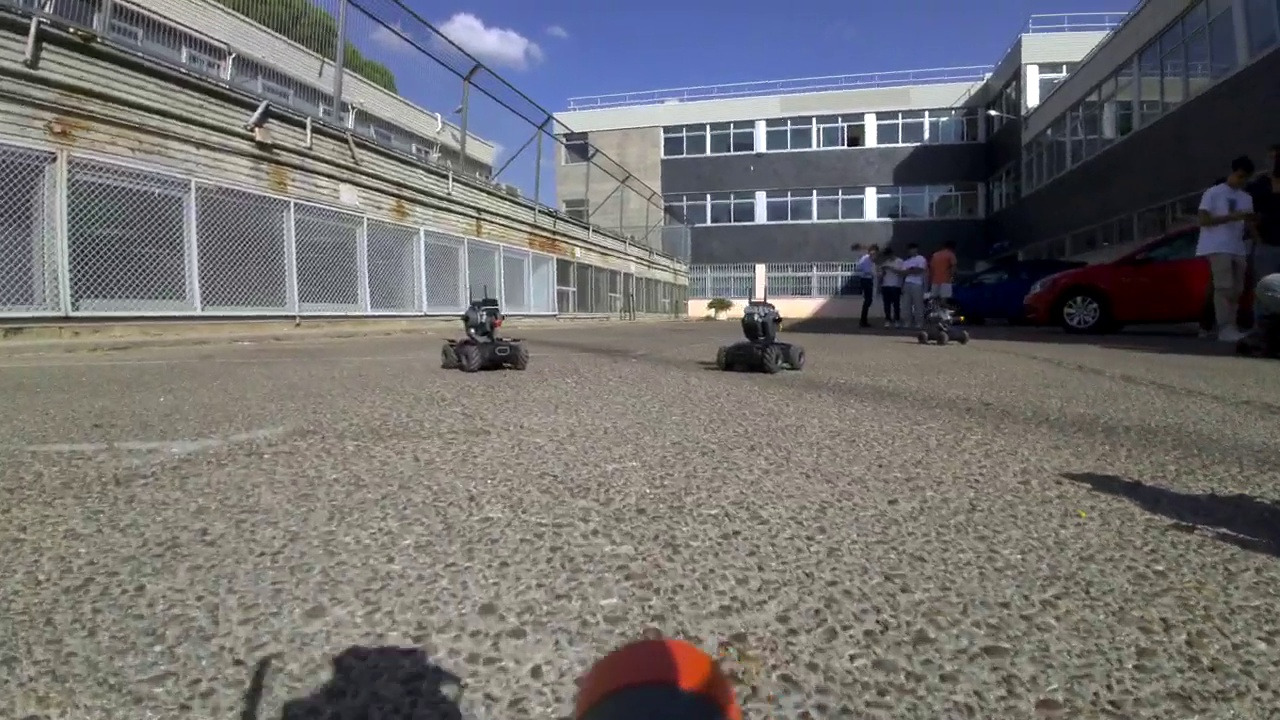robot: (722, 285, 808, 376), (443, 284, 527, 374), (916, 300, 969, 349)
